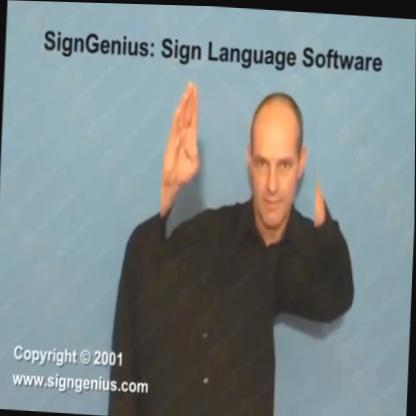Hello: (160, 65, 321, 252)
